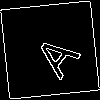A: (25, 25, 82, 81)
